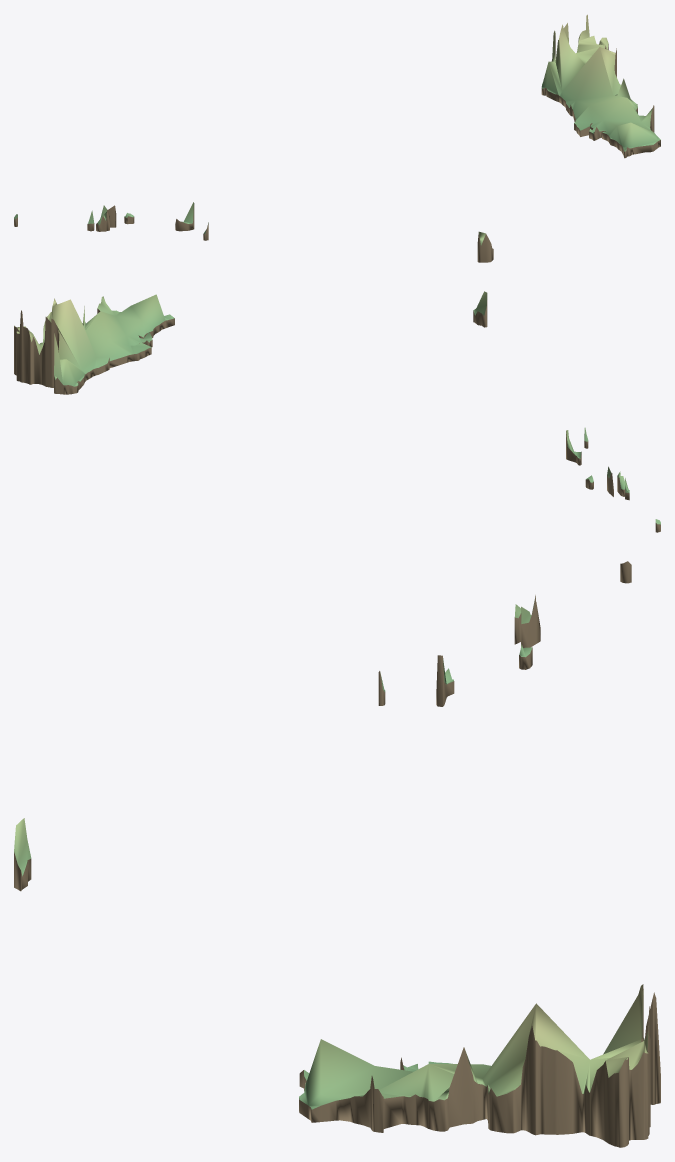
The model's file is PRT.glb.
The picture shows the model from 3 angles, top to bottom: view 1: azimuth 30°, elevation 25°; view 2: azimuth 150°, elevation 25°; view 3: azimuth 270°, elevation 25°; orthographic projection. The views are drawn at different scales.
Visible parts, largest first — view 1: PRT; view 2: PRT; view 3: PRT.
Boxes of the visible parts, x1=… form: PRT: x1=14, y1=14, x2=660, y2=262; PRT: x1=14, y1=291, x2=660, y2=532; PRT: x1=14, y1=561, x2=660, y2=1147.
Size of the model in its own units: 1.73 by 0.1851 by 0.8322.
